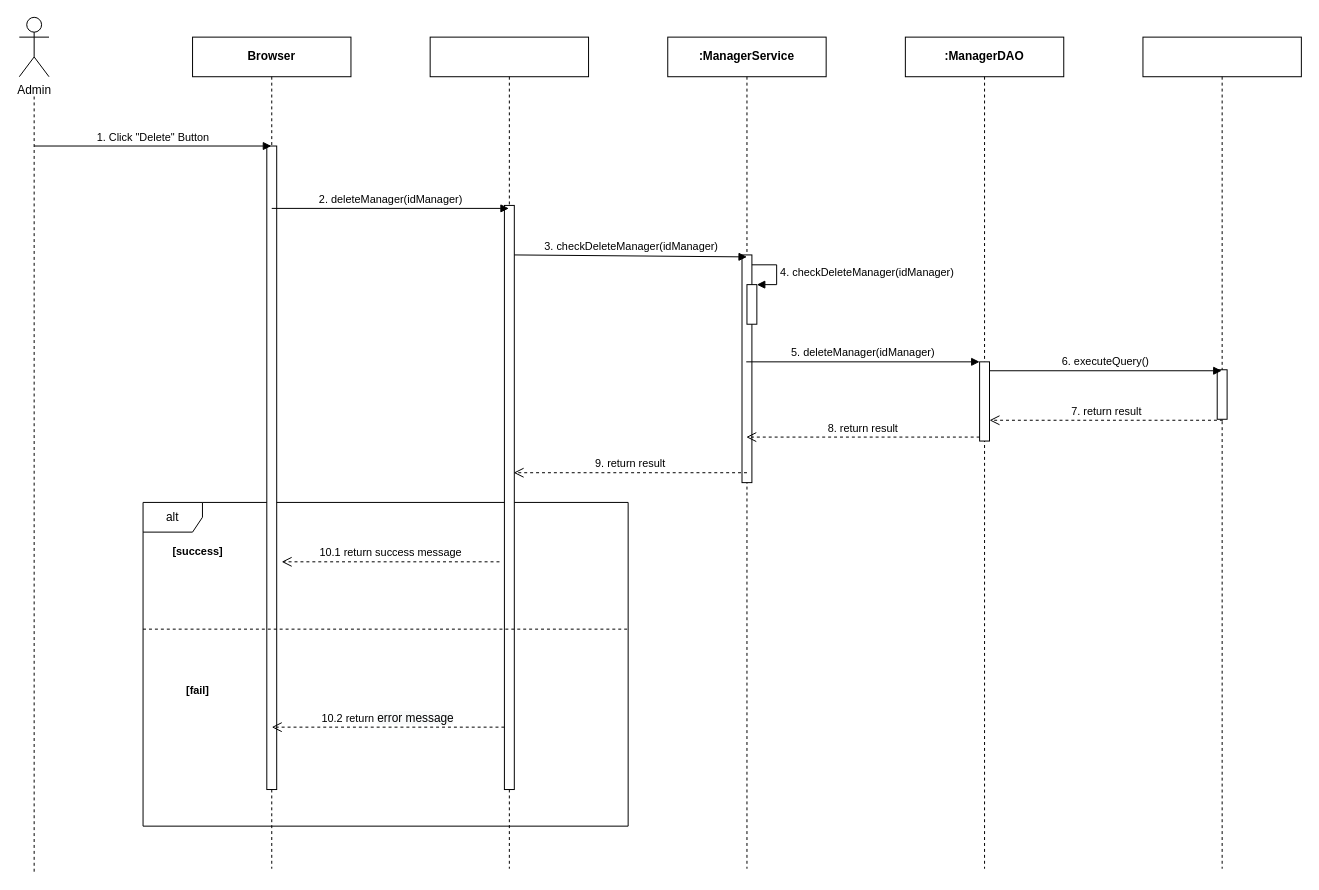
Some shapes in this 1319 by 890 pixel diagram are drawn without their labels. Each missing label, with the box of its shape:
:ManagerController: (429, 36, 589, 869)
Database: (1142, 36, 1301, 869)
